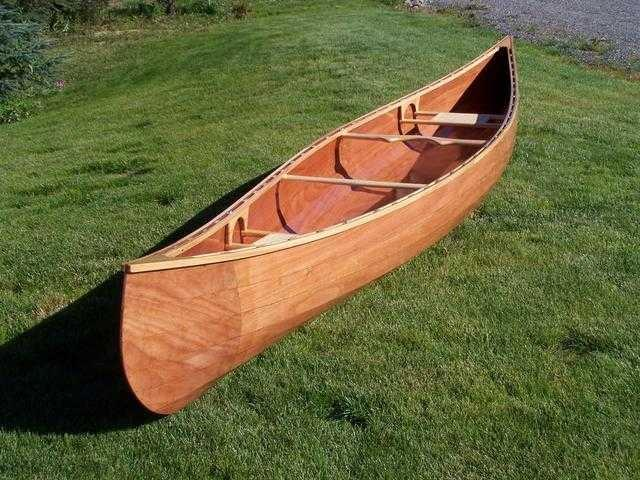kayak: (118, 35, 520, 417)
